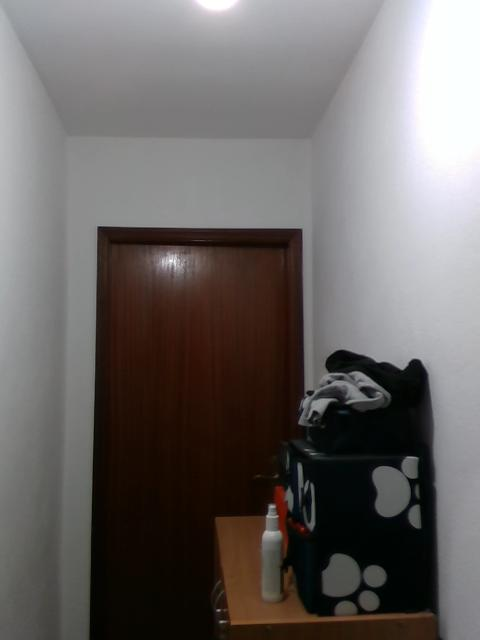door: (108, 239, 284, 640)
